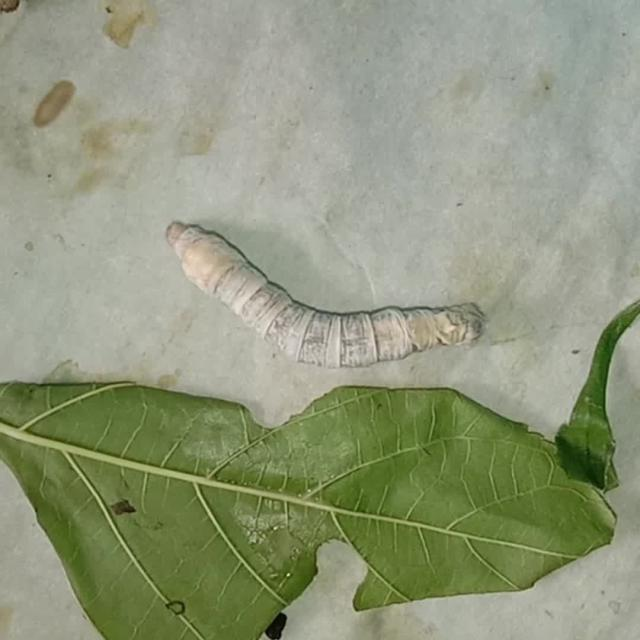Grasserie: (151, 204, 507, 383)
